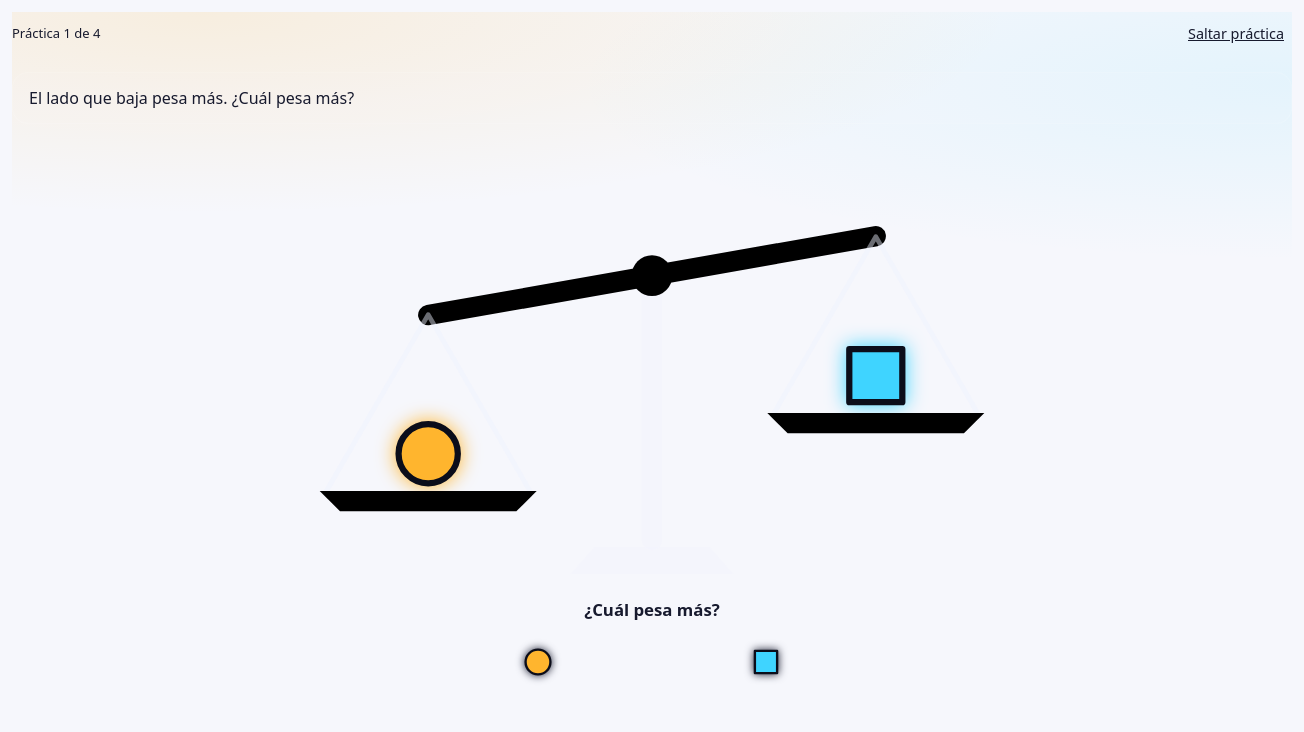
Test: a wrong answer gives the hint and keeps the round open
This screenshot has width=1304, height=732.
Click the button named "cuadrado cian" at (766, 662), box [657,632,876,692]
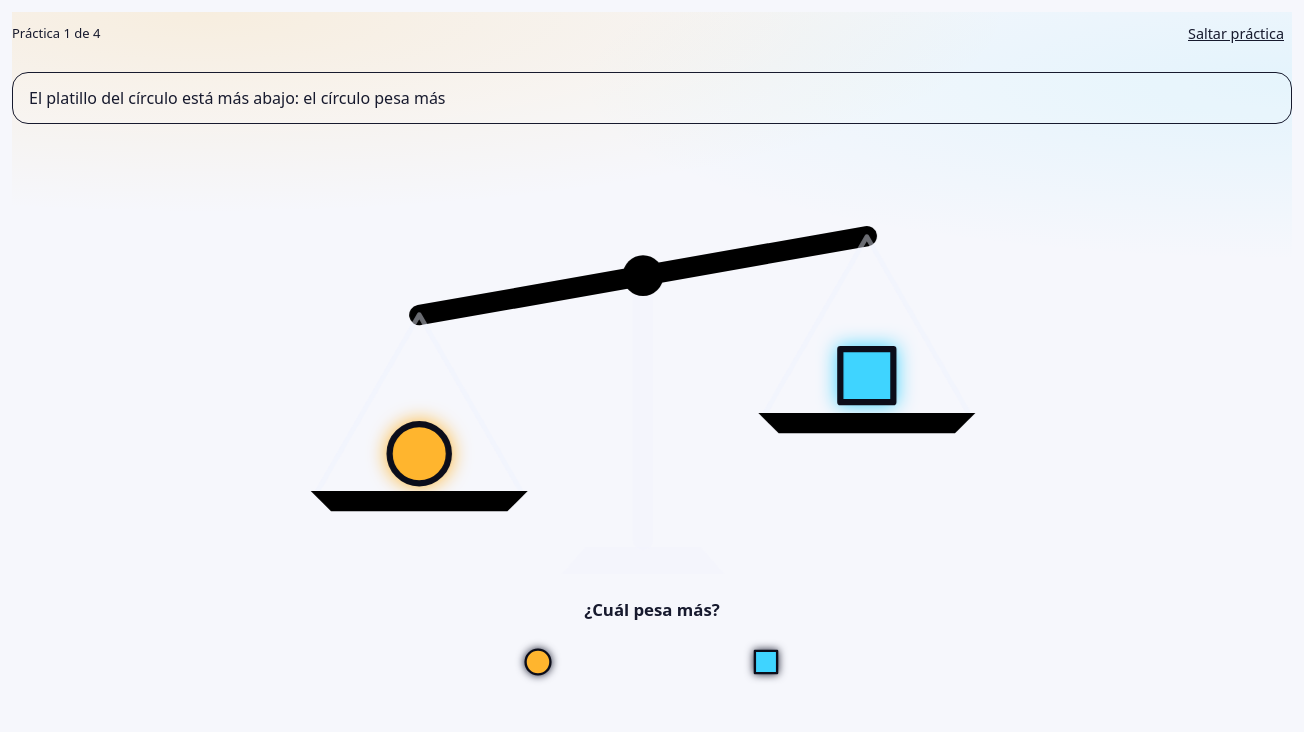
Expected: the text "Práctica 1 de 4" is shown, [12,24,100,44]
Expected: the text "El platillo del círculo está más abajo: el círculo pesa más" is shown, [12,72,1292,124]
Click the button named "círculo ámbar" at (538, 662), box [428,632,647,692]
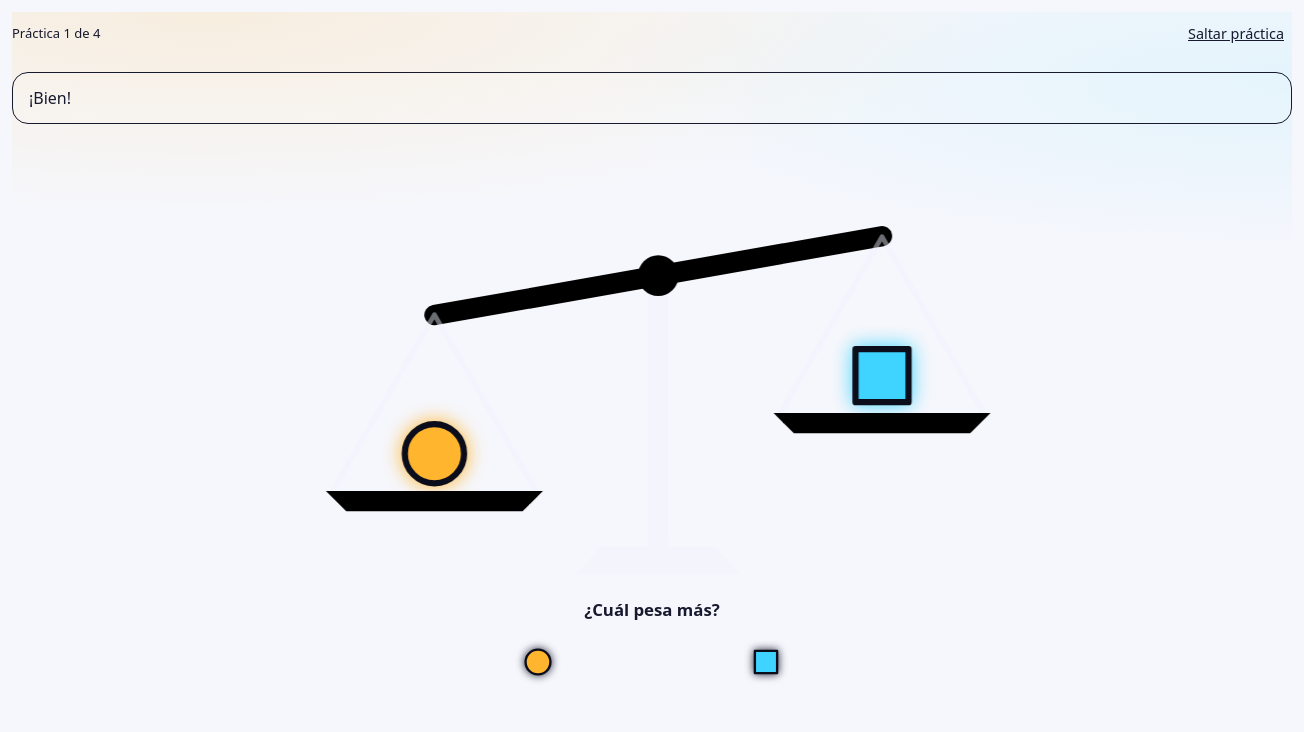
Expected: the text "¡Bien!" is shown, [12,72,1292,124]
